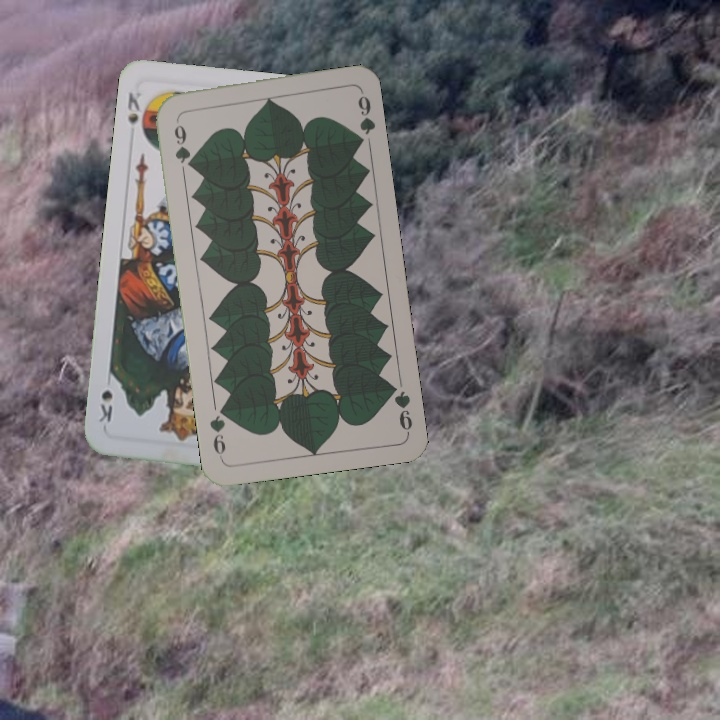G9: (384, 378, 415, 436), (170, 121, 196, 172)
SK: (123, 88, 144, 129)
